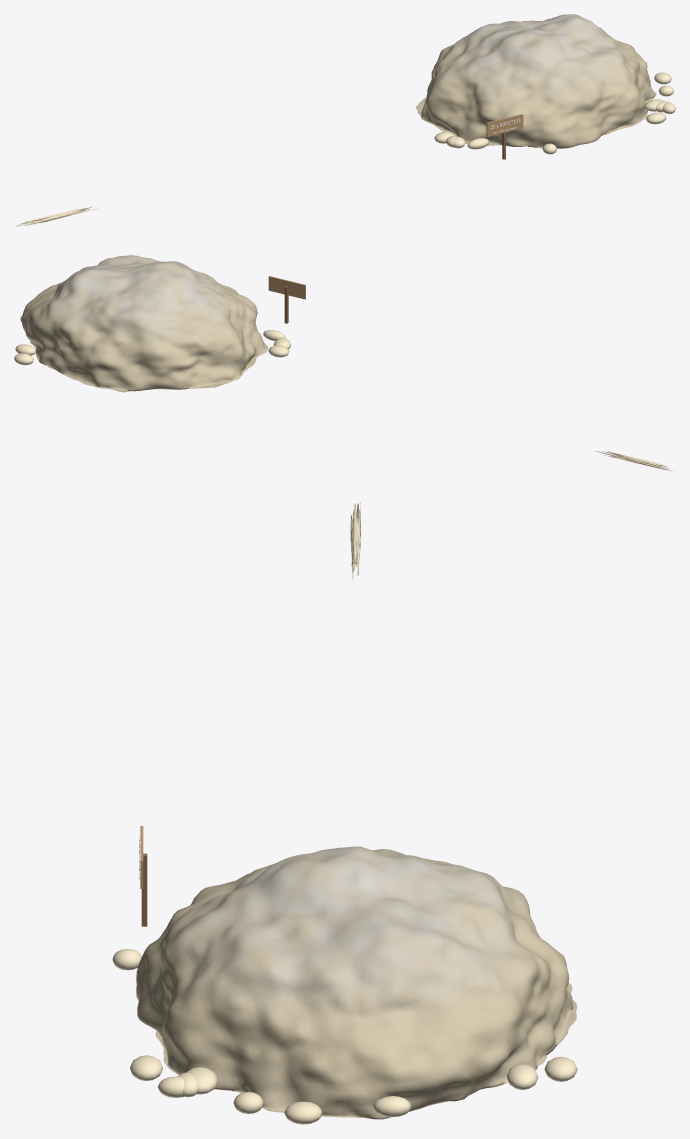
File: mountain.glb
3 views of the same model, one above another, from view 1: azimuth 30°, elevation 25°; view 2: azimuth 150°, elevation 25°; view 3: azimuth 270°, elevation 25° (orthographic). The views are drawn at different scales.
Visible parts, largest first — view 1: Mountain, Chunks, MountainSign, DoughBlob; view 2: Mountain, Chunks, MountainSign, DoughBlob; view 3: Mountain, Chunks.
Part boxes in pixels (x1,y1,x2,y2): Mountain: (416, 14, 656, 148); Chunks: (434, 72, 675, 154); MountainSign: (486, 114, 523, 159); DoughBlob: (16, 207, 97, 226); Mountain: (21, 255, 268, 392); Chunks: (14, 301, 290, 365); MountainSign: (268, 276, 305, 323); DoughBlob: (594, 451, 673, 471); Mountain: (136, 846, 577, 1119); Chunks: (112, 949, 577, 1124).
Size of the model in its own units: 26.68 by 2.91 by 8.37.
